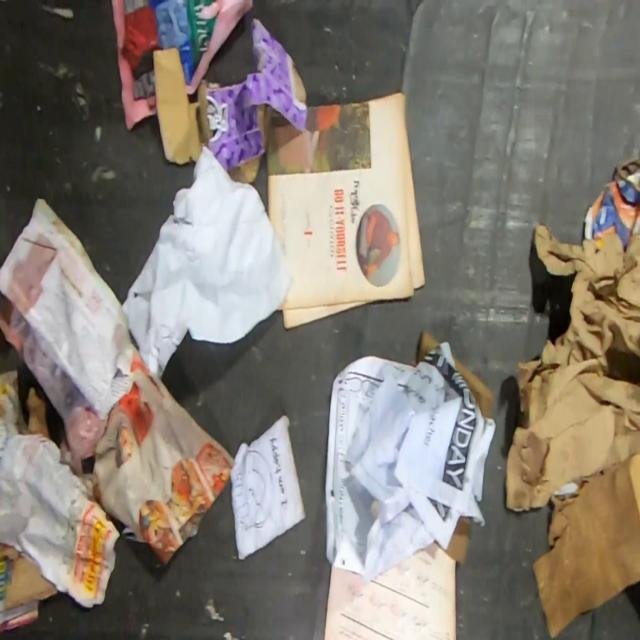cardboard: (152, 15, 310, 185), (530, 450, 640, 640), (0, 543, 60, 610), (452, 355, 496, 420), (19, 384, 51, 439), (442, 515, 474, 567), (417, 329, 441, 364)
